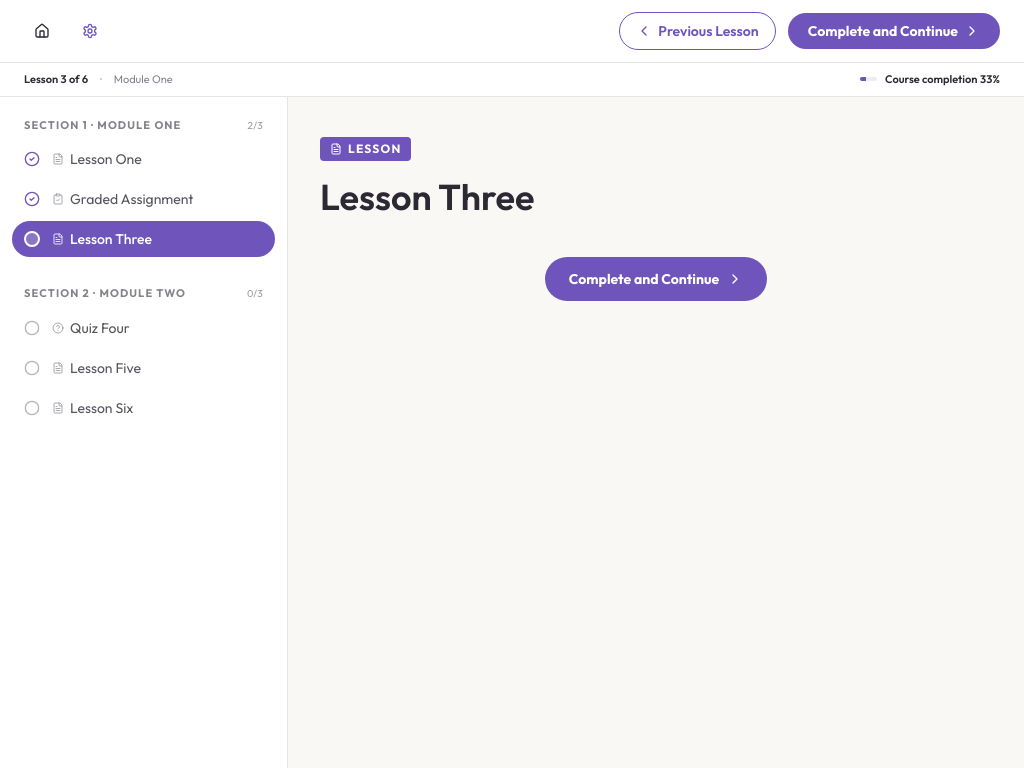
CourseLearn read model (T-10) › informational Complete and Continue is the one intentional write: 3 of 6, 50% everywhere
Expected: the text with test id "learn-position" reads "Lesson 3 of 6", x1=24 y1=71 x2=88 y2=88
Click the 1st button "Complete and Continue" at (894, 31), box x1=788 y1=13 x2=1000 y2=49
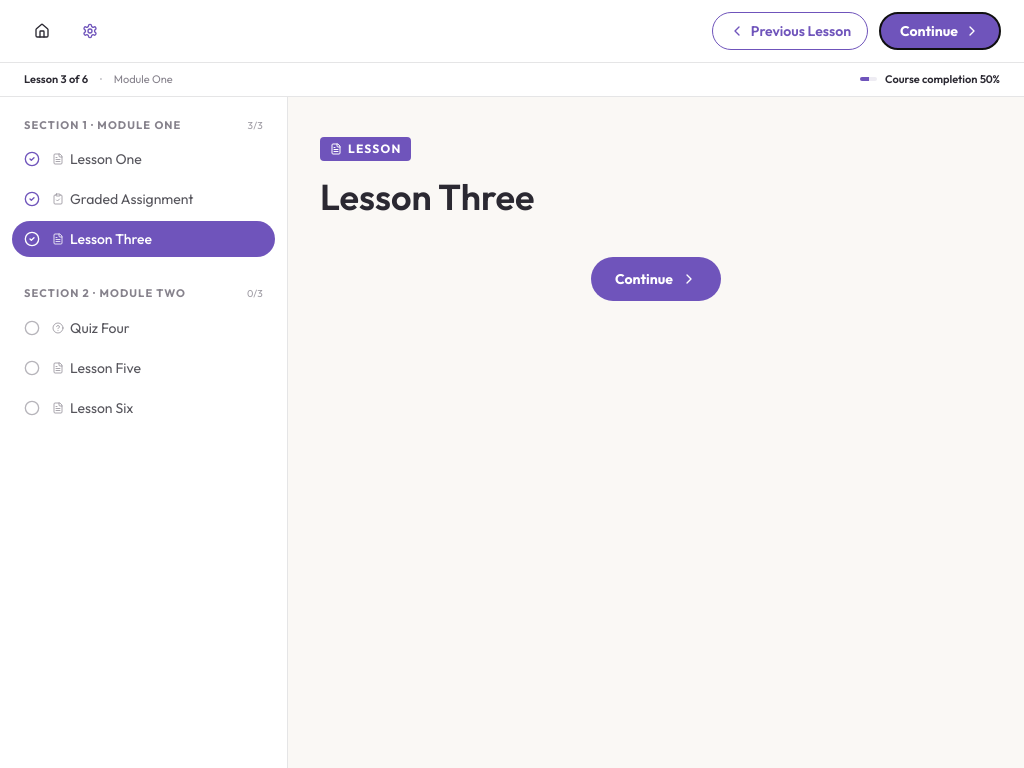
Expected: the element with test id "learn-completion" reads "Course completion 50%", x1=885 y1=72 x2=1000 y2=86
